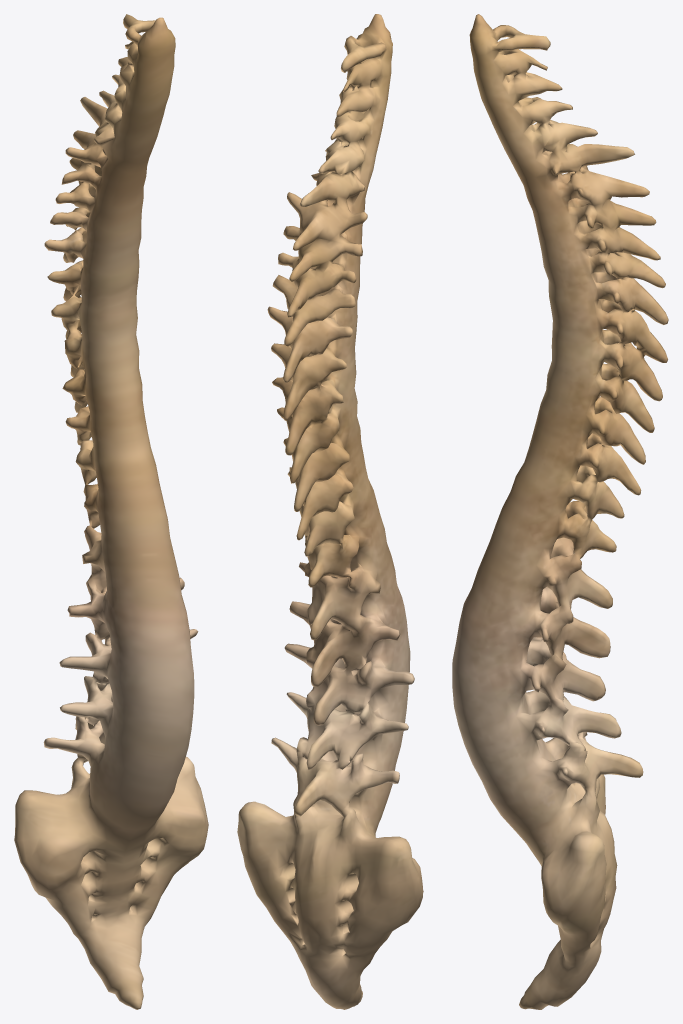
Rendered from spine.glb.
3 views of the same model, side by side, from view 1: azimuth 30°, elevation 25°; view 2: azimuth 150°, elevation 25°; view 3: azimuth 270°, elevation 25° (orthographic). The views are drawn at different scales.
Parts seen in each view (by area): view 1: Columna; view 2: Columna; view 3: Columna.
Boxes of the visible parts, x1,y1,x2,y2 form: Columna: [14, 14, 208, 1009]; Columna: [237, 14, 423, 1009]; Columna: [452, 14, 668, 1009].
Bounding box in the file's own units: 0.5198 × 2.69 × 0.5311.
Materials: 1 (1 with a texture image).
